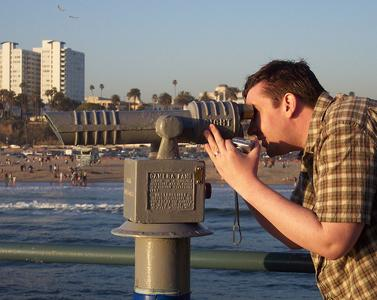person: (204, 59, 376, 299)
